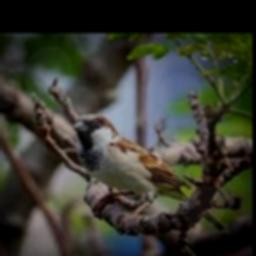Sparrow: (72, 113, 191, 223)
